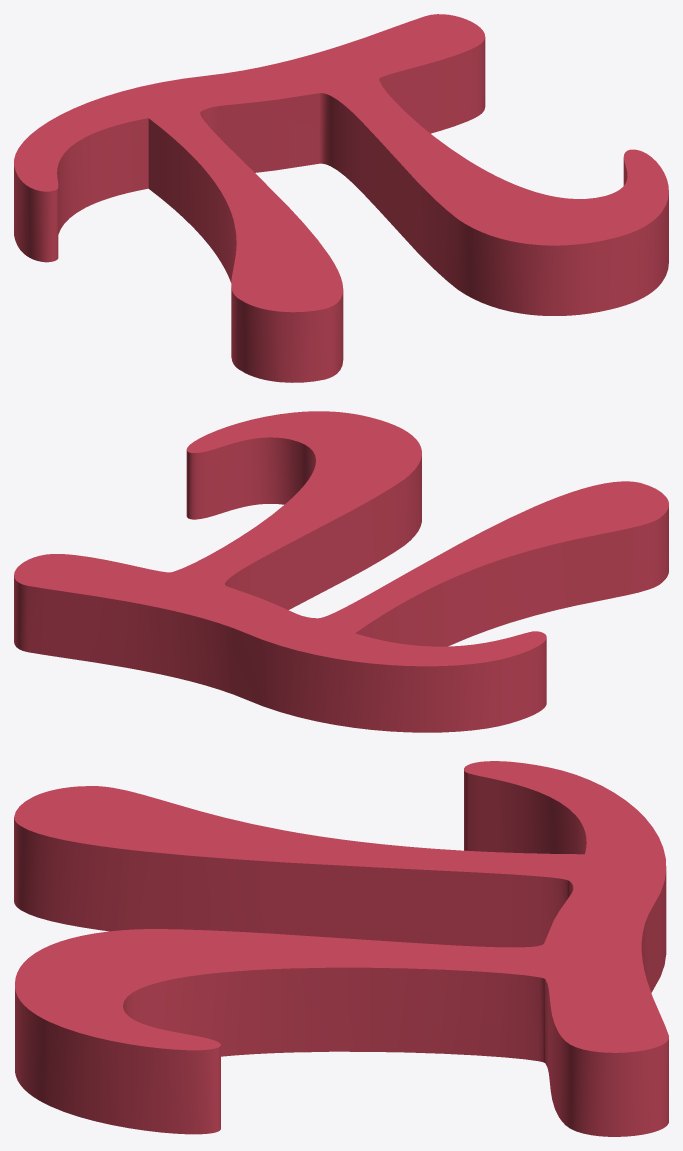
Rendered from letra_pi.glb.
3 renders of one model, top to bottom at view 1: azimuth 30°, elevation 25°; view 2: azimuth 150°, elevation 25°; view 3: azimuth 270°, elevation 25°, orthographic. The views are drawn at different scales.
Visible parts, largest first — view 1: Object_2; view 2: Object_2; view 3: Object_2.
Part boxes in pixels (x1,y1,x2,y2): Object_2: (14, 14, 668, 382); Object_2: (14, 411, 668, 732); Object_2: (14, 761, 668, 1136).
Size of the model in its own units: 112 by 15 by 106.
